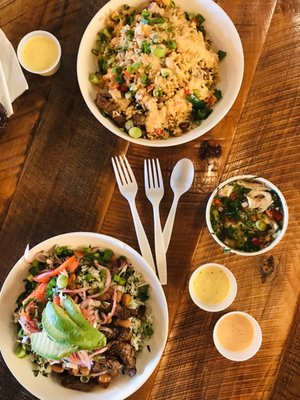burger: (110, 154, 159, 275), (143, 158, 165, 280)
pizza: (17, 30, 62, 78)
salad: (161, 158, 194, 254)
sushi: (0, 231, 169, 399), (76, 0, 245, 149), (205, 175, 289, 257), (213, 311, 262, 362), (188, 263, 237, 313)
